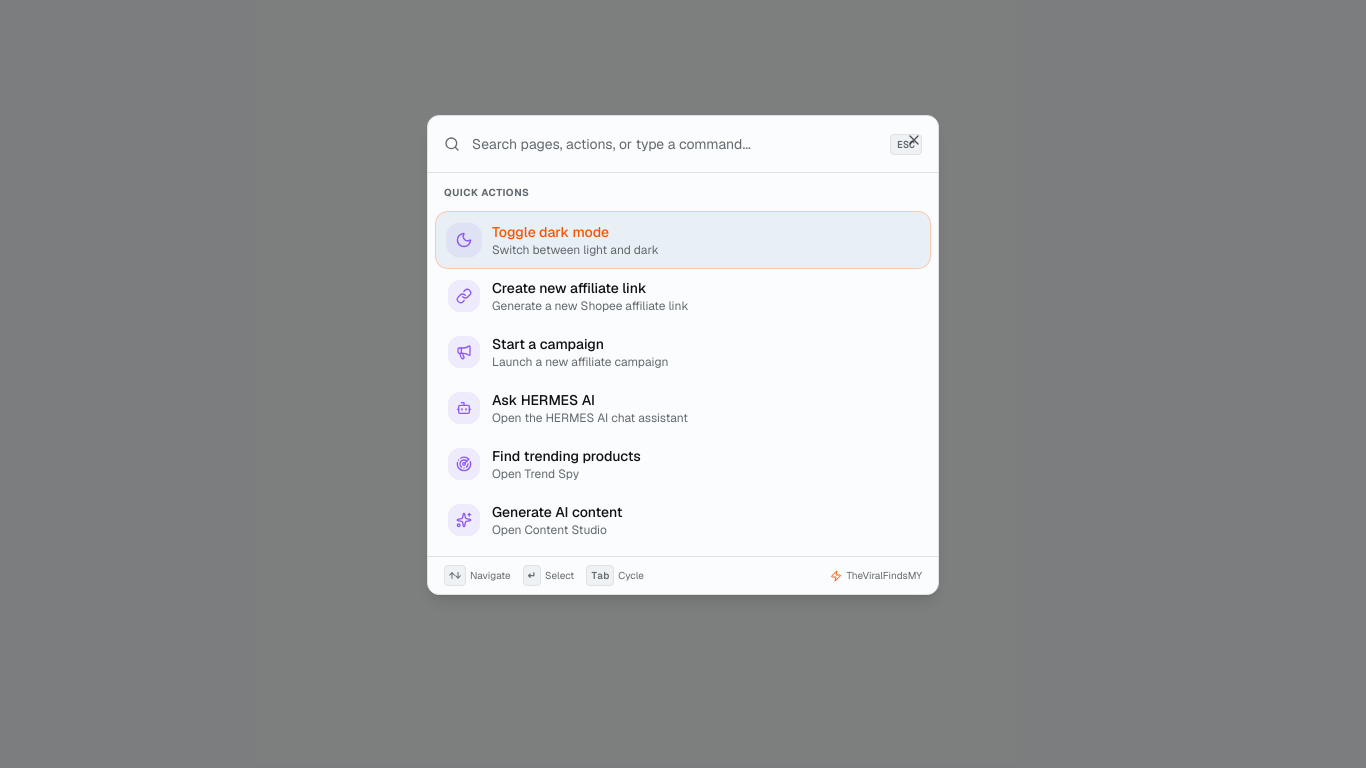
CommandPalette › search filtering › filters nav items by label match
Type "earnings" into the field with placeholder "Search pages, actions, or type a command..." at x=675, y=144, box [472,116,878,172]
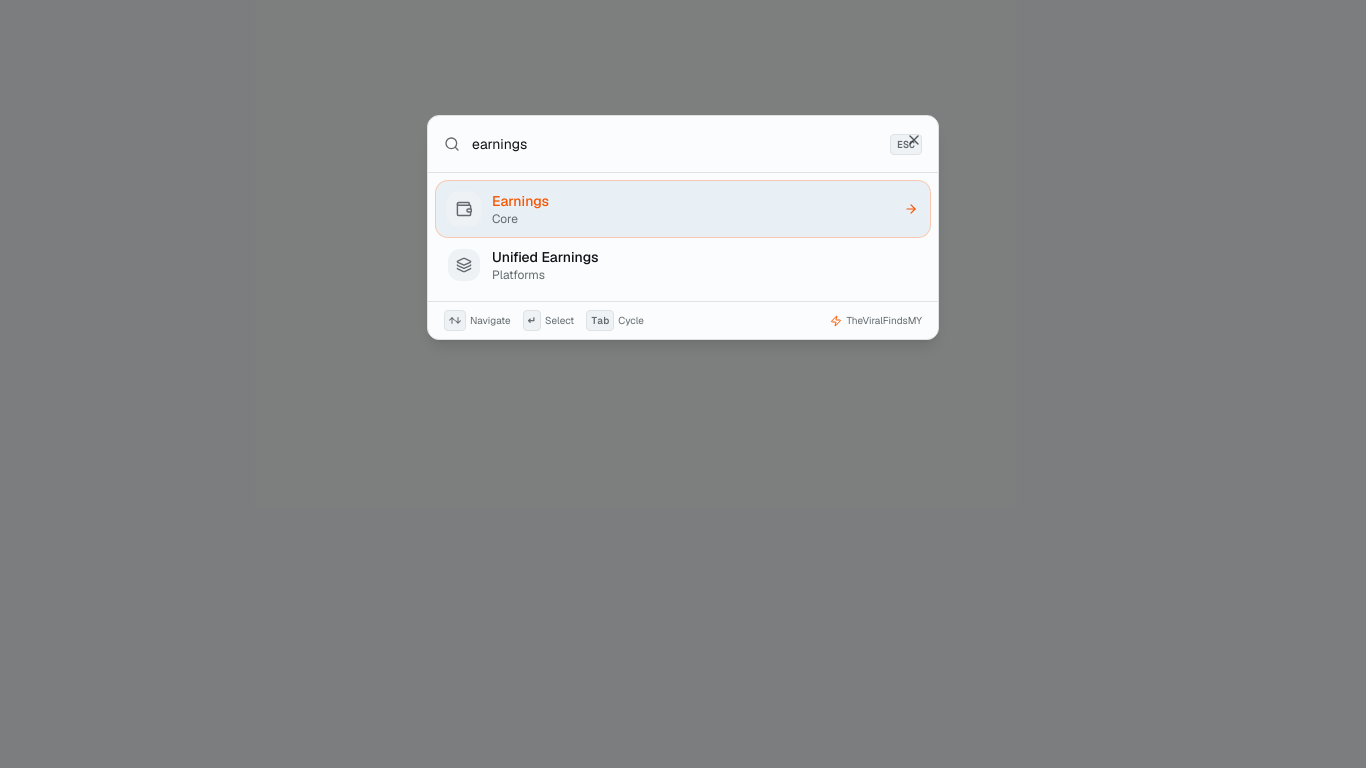
Expected: the text "Earnings" is shown, [492,192,549,210]
